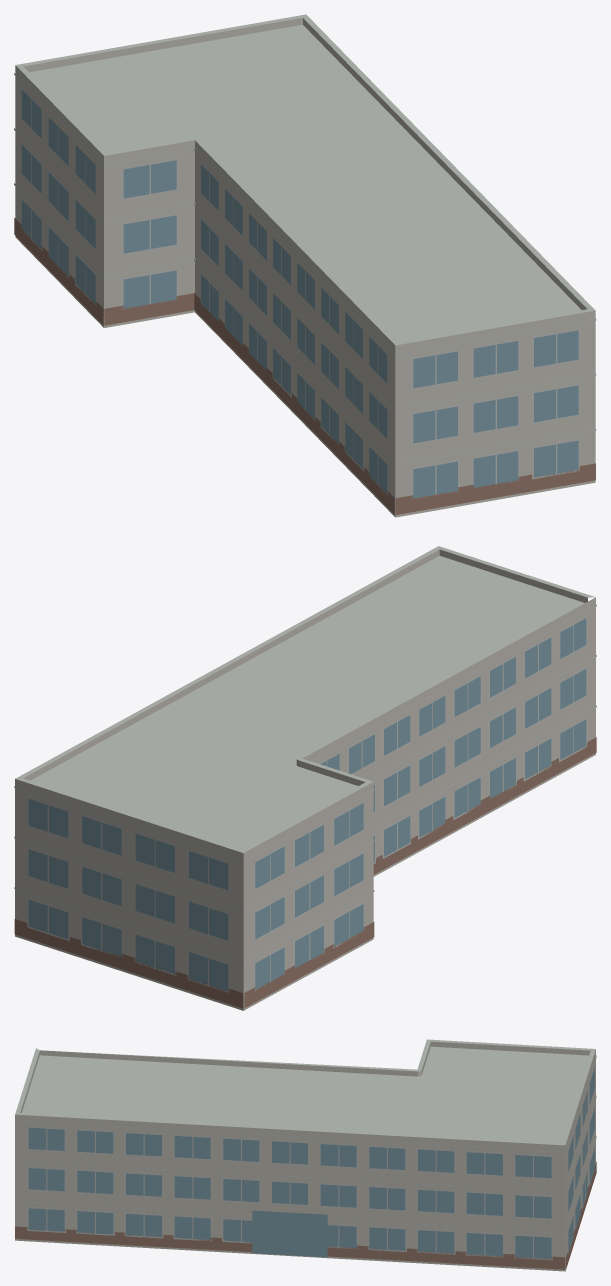
Rendered from public-a1949235-37e2-4749-a110-2945fe66cb68.glb.
The picture shows the model from 3 angles, top to bottom: view 1: azimuth 30°, elevation 25°; view 2: azimuth 150°, elevation 25°; view 3: azimuth 270°, elevation 25°; orthographic projection. The views are drawn at different scales.
Visible parts, largest first — view 1: public-a1949235-37e2-4749-a110-2945fe66cb68; view 2: public-a1949235-37e2-4749-a110-2945fe66cb68; view 3: public-a1949235-37e2-4749-a110-2945fe66cb68.
Part boxes in pixels (bbox=[...]): public-a1949235-37e2-4749-a110-2945fe66cb68: bbox=[14, 14, 596, 517]; public-a1949235-37e2-4749-a110-2945fe66cb68: bbox=[14, 546, 596, 1010]; public-a1949235-37e2-4749-a110-2945fe66cb68: bbox=[15, 1039, 596, 1271].
Bounding box in the file's own units: 16.65 × 9.15 × 38.35.
